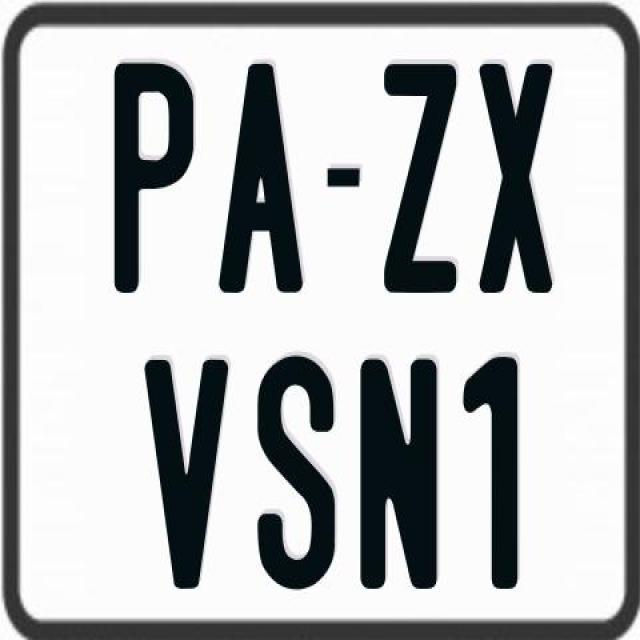1: (460, 354, 523, 594)
A: (218, 64, 310, 293)
N: (360, 358, 444, 594)
P: (113, 58, 195, 296)
S: (255, 354, 336, 596)
V: (145, 355, 231, 587)
X: (480, 60, 558, 298)
Z: (382, 64, 462, 301)
